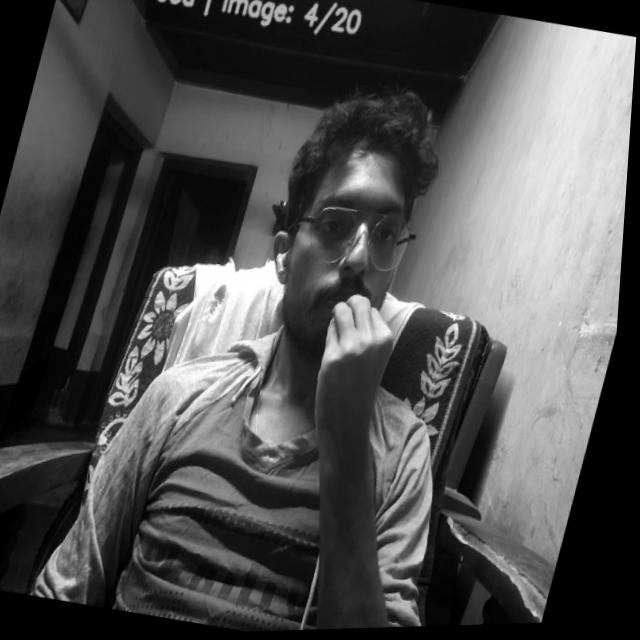Food: (297, 285, 421, 442)
